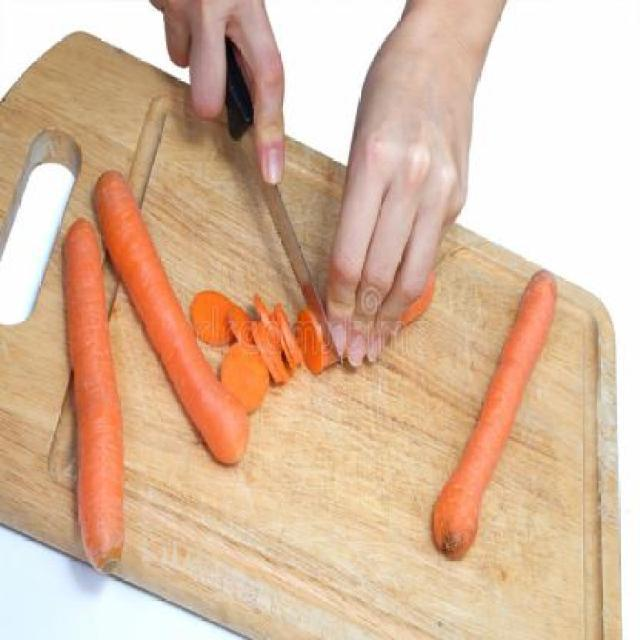carrot: (96, 166, 254, 474), (430, 269, 564, 566), (62, 217, 130, 583)
